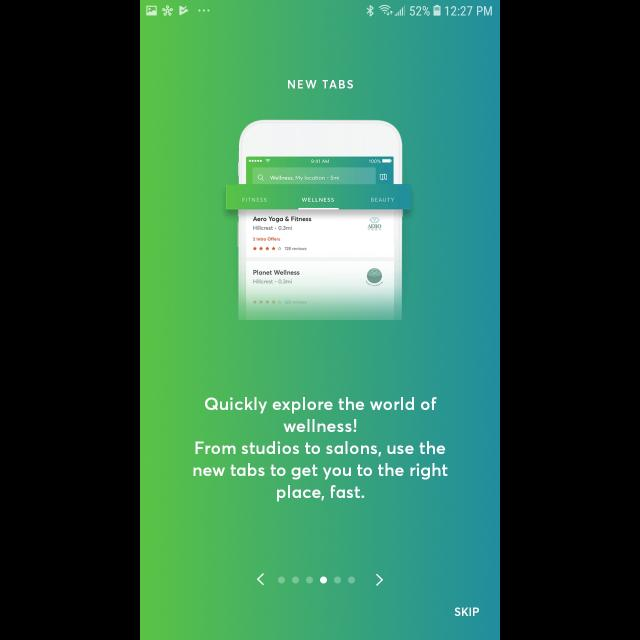icon: (257, 572, 265, 586), (376, 574, 384, 586)
image: (225, 120, 411, 320)
pageindicator: (278, 576, 356, 584)
text: (194, 396, 448, 502), (287, 80, 353, 90), (454, 608, 480, 616)
uppertaskbar: (140, 1, 500, 18)
